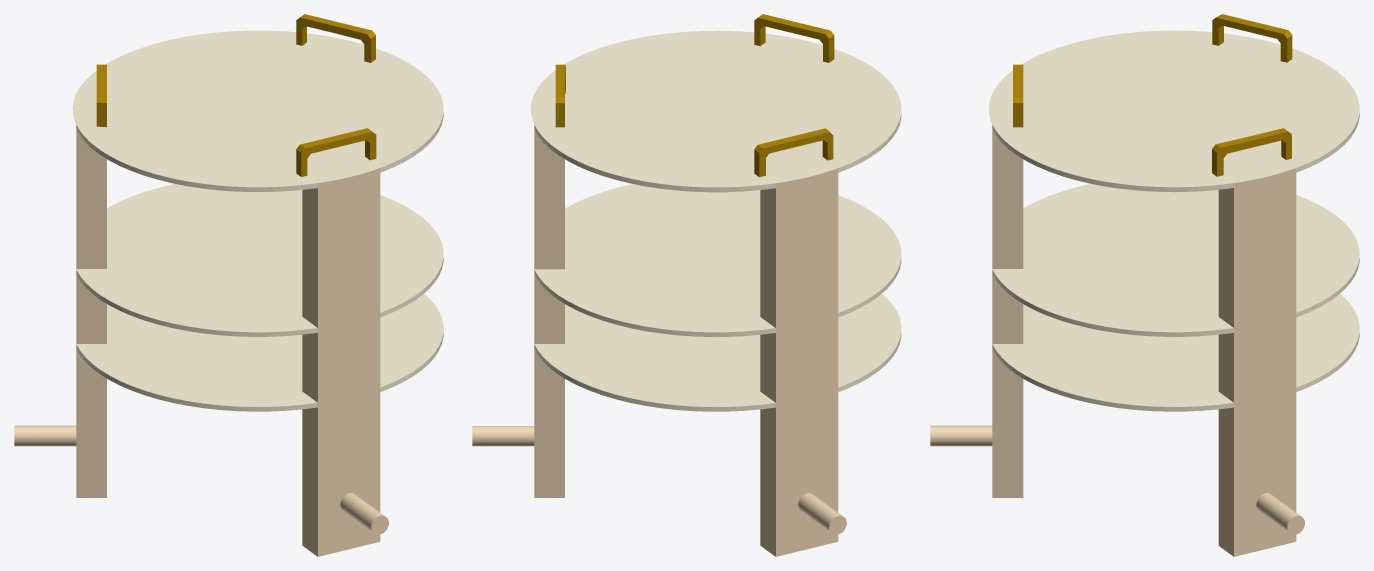
File: peter-rabbit-3-leg.gltf
3 renders of one model, left to right at view 1: azimuth 30°, elevation 25°; view 2: azimuth 150°, elevation 25°; view 3: azimuth 270°, elevation 25°, orthographic.
Parts seen in each view (by area): view 1: Part 13, Part 6, Part 4, Part 1, Part 7, Part 9, Part 3, Part 5, Part 12, Part 11, Part 10; view 2: Part 13, Part 6, Part 4, Part 3, Part 9, Part 2, Part 8, Part 5, Part 12, Part 10, Part 11; view 3: Part 13, Part 6, Part 4, Part 2, Part 8, Part 1, Part 7, Part 5, Part 10, Part 11, Part 12.
Part boxes in pixels (bbox=[...]): Part 13: bbox=[72, 30, 443, 187]; Part 6: bbox=[76, 184, 443, 336]; Part 4: bbox=[76, 294, 443, 411]; Part 1: bbox=[302, 168, 380, 407]; Part 7: bbox=[302, 392, 388, 556]; Part 9: bbox=[14, 349, 106, 497]; Part 3: bbox=[76, 130, 106, 343]; Part 5: bbox=[76, 106, 443, 191]; Part 12: bbox=[296, 128, 376, 176]; Part 11: bbox=[296, 14, 375, 62]; Part 10: bbox=[96, 64, 106, 127]; Part 13: bbox=[530, 30, 901, 187]; Part 6: bbox=[534, 184, 901, 336]; Part 4: bbox=[534, 294, 901, 411]; Part 3: bbox=[760, 168, 838, 407]; Part 9: bbox=[760, 392, 846, 556]; Part 2: bbox=[534, 130, 564, 343]; Part 8: bbox=[472, 349, 564, 497]; Part 5: bbox=[534, 114, 901, 192]; Part 12: bbox=[754, 14, 834, 62]; Part 10: bbox=[754, 128, 833, 177]; Part 11: bbox=[555, 64, 565, 127]; Part 13: bbox=[989, 30, 1359, 187]; Part 6: bbox=[992, 184, 1359, 336]; Part 4: bbox=[992, 294, 1359, 411]; Part 2: bbox=[1218, 168, 1296, 407]; Part 8: bbox=[1218, 392, 1304, 556]; Part 1: bbox=[992, 129, 1023, 343]; Part 7: bbox=[930, 349, 1023, 497]; Part 5: bbox=[992, 113, 1359, 192]; Part 10: bbox=[1212, 14, 1292, 62]; Part 11: bbox=[1212, 128, 1291, 176]; Part 12: bbox=[1013, 64, 1023, 127].
Size of the model in its own units: 0.5331 by 0.5461 by 0.5288.
